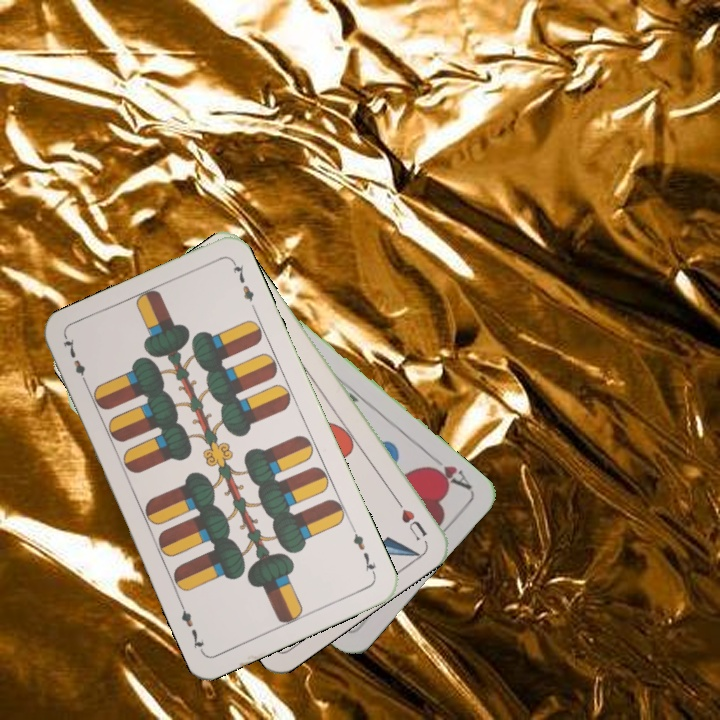E7: (59, 334, 91, 390), (348, 523, 379, 579)
HA: (423, 449, 474, 493)
HU: (389, 492, 430, 543)
